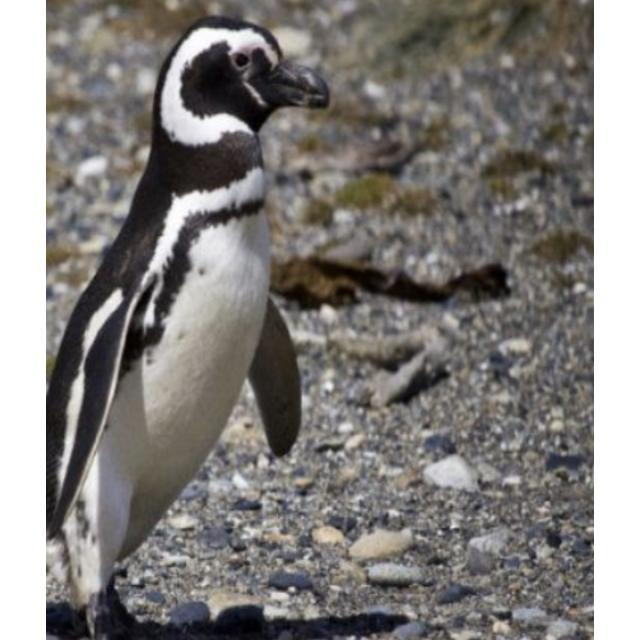penguin: (50, 16, 331, 637)
